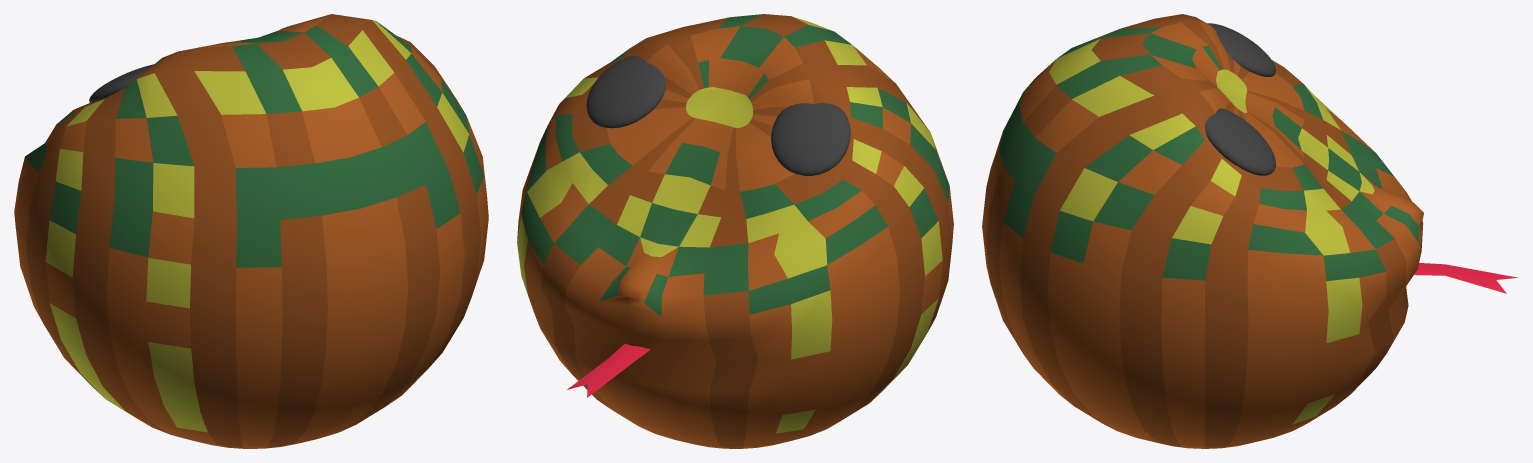
File: Head.fbx
The picture shows the model from 3 angles, left to right: view 1: azimuth 30°, elevation 25°; view 2: azimuth 150°, elevation 25°; view 3: azimuth 270°, elevation 25°; orthographic projection. The views are drawn at different scales.
Parts seen in each view (by area): view 1: head; view 2: head; view 3: head.
Part boxes in pixels (bbox=[...]): head: bbox=[14, 14, 488, 448]; head: bbox=[517, 14, 953, 448]; head: bbox=[982, 14, 1517, 448].
Bounding box in the file's own units: 147 × 140 × 177.
